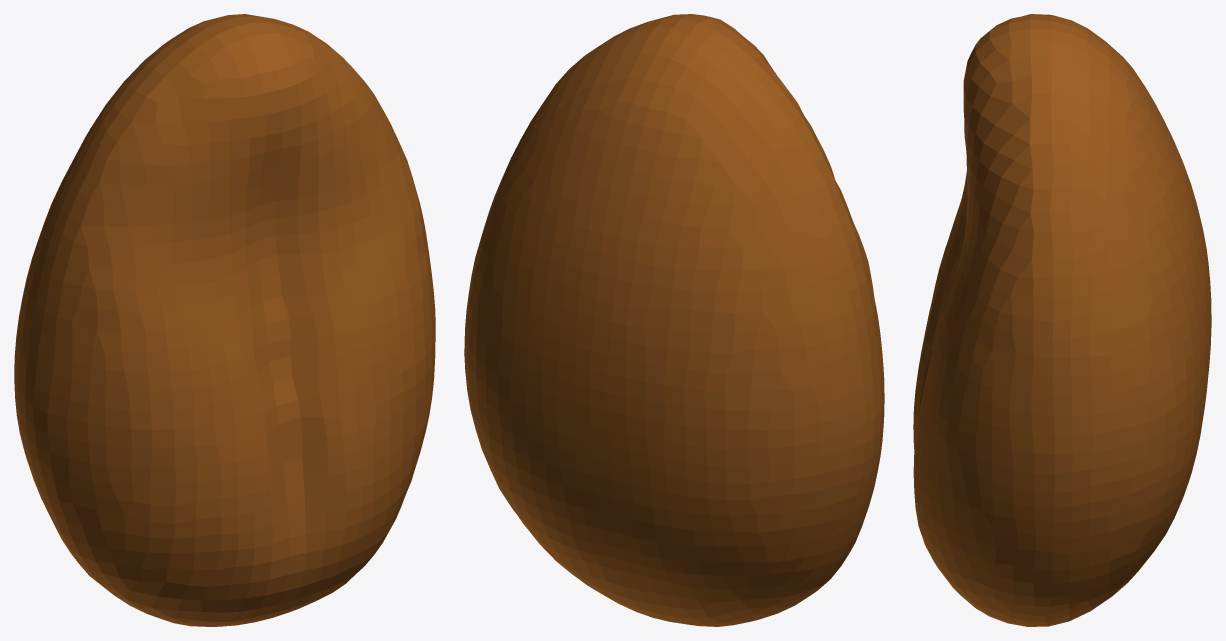
The model's file is daikon_model.fbx.
3 renders of one model, left to right at view 1: azimuth 30°, elevation 25°; view 2: azimuth 150°, elevation 25°; view 3: azimuth 270°, elevation 25°, orthographic.
Parts seen in each view (by area): view 1: daikon_seed_unwrap:ZBrush_defualt_group; view 2: daikon_seed_unwrap:ZBrush_defualt_group; view 3: daikon_seed_unwrap:ZBrush_defualt_group.
Part boxes in pixels (x1,y1,x2,y2): daikon_seed_unwrap:ZBrush_defualt_group: (14,14,435,626); daikon_seed_unwrap:ZBrush_defualt_group: (464,14,884,626); daikon_seed_unwrap:ZBrush_defualt_group: (913,14,1211,626).
Bounding box in the file's own units: 1.65 × 2.39 × 1.11.
Materials: 1 (1 with a texture image).
